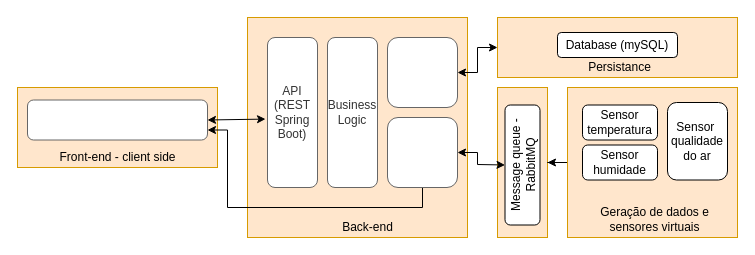
Some shapes in this 755 by 255 pixel diagram are drawn without their labels. The shapes that lost their labels are listed below. From the top down, each one's box as (x1, y1, x2, y2) in pixels, then its label:
(386, 36, 458, 108): Data model
(26, 99, 208, 140): Web App (React JS)
(386, 116, 458, 188): Processing Logic
